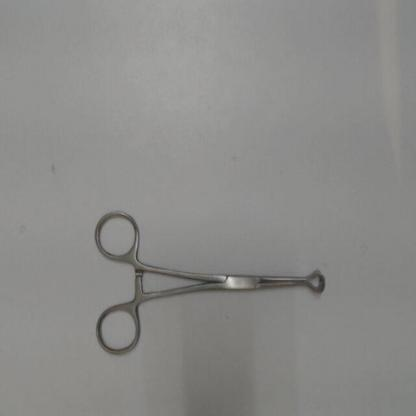Babcock Tissue Forceps: (91, 204, 330, 361)
